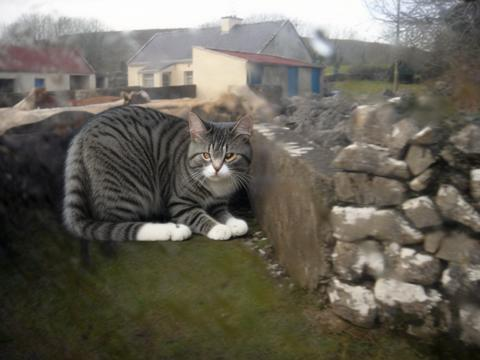cat: (60, 105, 253, 241)
cow: (2, 128, 151, 270)
